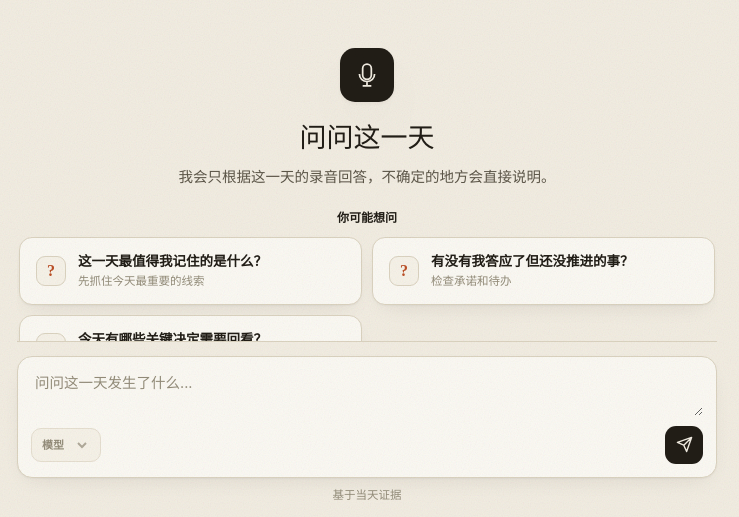
QaPanel › submits the composer question when Enter is pressed
The width and height of the screenshot is (739, 517).
Step 1. Type "今天有什么重点？" into the text box named "问题" → x=367, y=393, box [31,370,703,416]
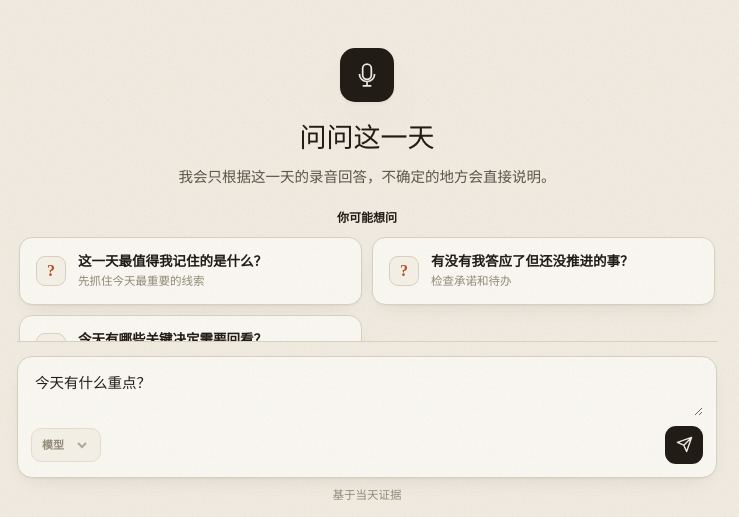
Step 2. Press Enter in the text box named "问题", box [31,370,703,416]
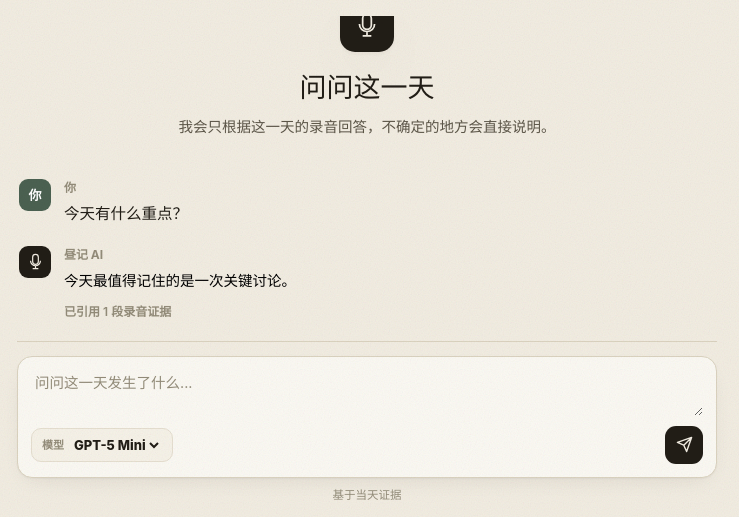
Expected: the text with class "bub" reads "今天有什么重点？", [64,204,188,223]
Expected: the text box named "问题" is empty, [31,370,703,416]
